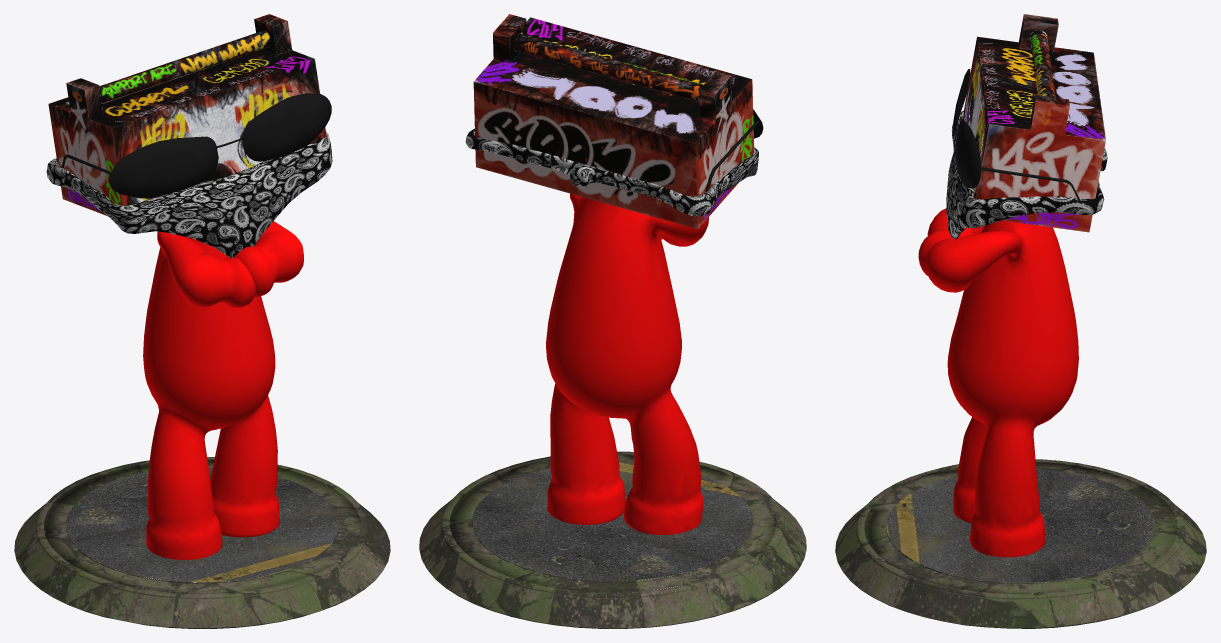
3 views of the same model, side by side, from view 1: azimuth 30°, elevation 25°; view 2: azimuth 150°, elevation 25°; view 3: azimuth 270°, elevation 25° (orthographic). The views are drawn at different scales.
Parts seen in each view (by area): view 1: BBody; view 2: BBody; view 3: BBody.
Boxes of the visible parts, x1,y1,x2,y2 form: BBody: (14, 14, 390, 628); BBody: (419, 14, 806, 628); BBody: (835, 14, 1206, 628).
Bounding box in the file's own units: 1.45 × 2.13 × 1.45.
6 materials, 4 textured.
